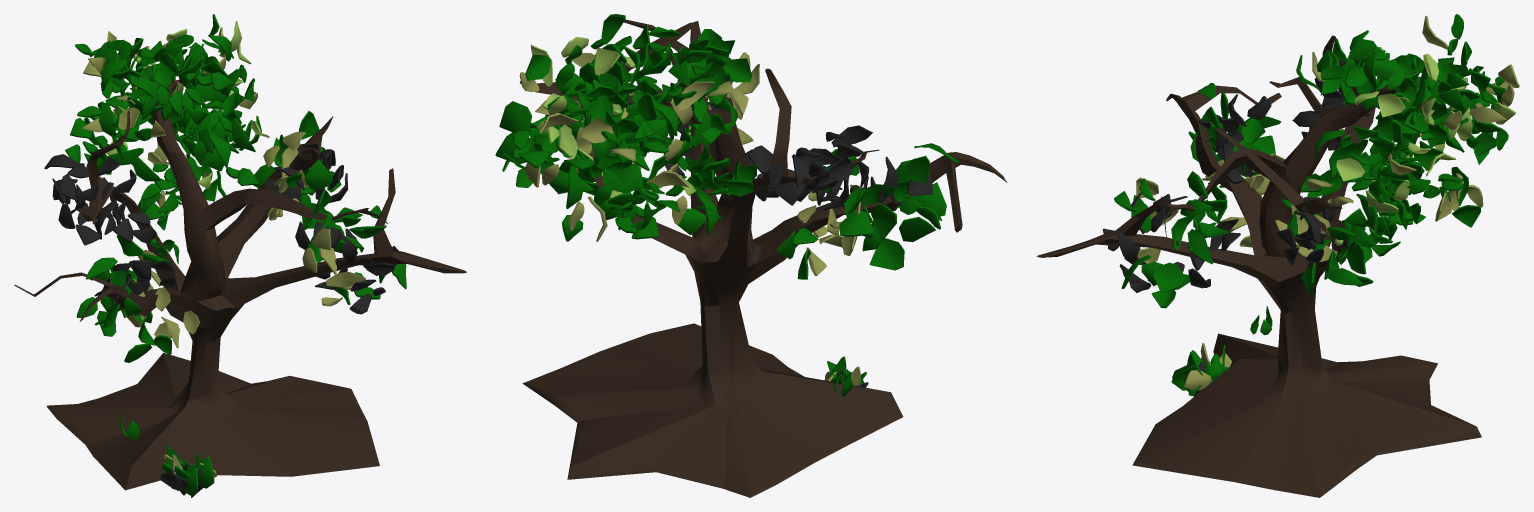
Rendered from Tree_1.fbx.
3 renders of one model, left to right at view 1: azimuth 30°, elevation 25°; view 2: azimuth 150°, elevation 25°; view 3: azimuth 270°, elevation 25°, orthographic. The views are drawn at different scales.
Visible parts, largest first — view 1: main_tree_7:group9_pasted__group8_pasted__pasted__pCube2; view 2: main_tree_7:group9_pasted__group8_pasted__pasted__pCube2; view 3: main_tree_7:group9_pasted__group8_pasted__pasted__pCube2.
Part boxes in pixels (<box>): main_tree_7:group9_pasted__group8_pasted__pasted__pCube2: <box>14,14,466,497</box>; main_tree_7:group9_pasted__group8_pasted__pasted__pCube2: <box>495,14,1007,497</box>; main_tree_7:group9_pasted__group8_pasted__pasted__pCube2: <box>1036,14,1519,497</box>.
Bounding box in the file's own units: 9.08 × 9.12 × 9.91.
